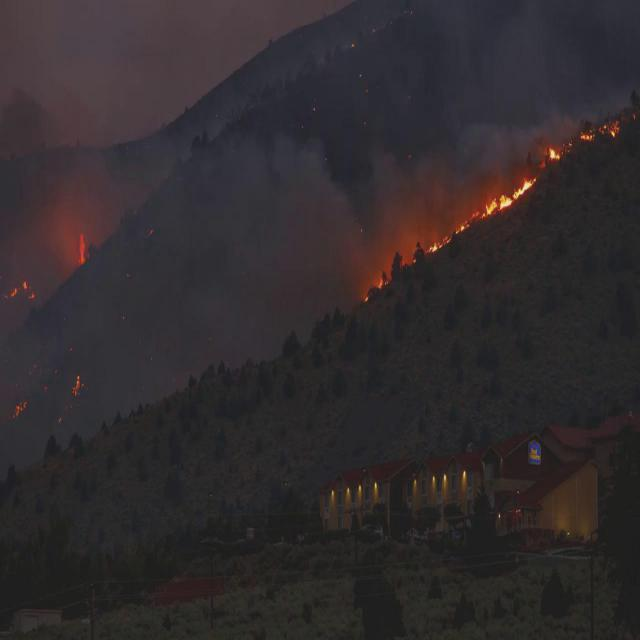Fire: (426, 209, 479, 254), (486, 176, 536, 215), (580, 120, 618, 144), (8, 279, 34, 304), (77, 232, 86, 267), (15, 396, 28, 418), (546, 146, 562, 161), (70, 374, 80, 396), (376, 274, 384, 288)
